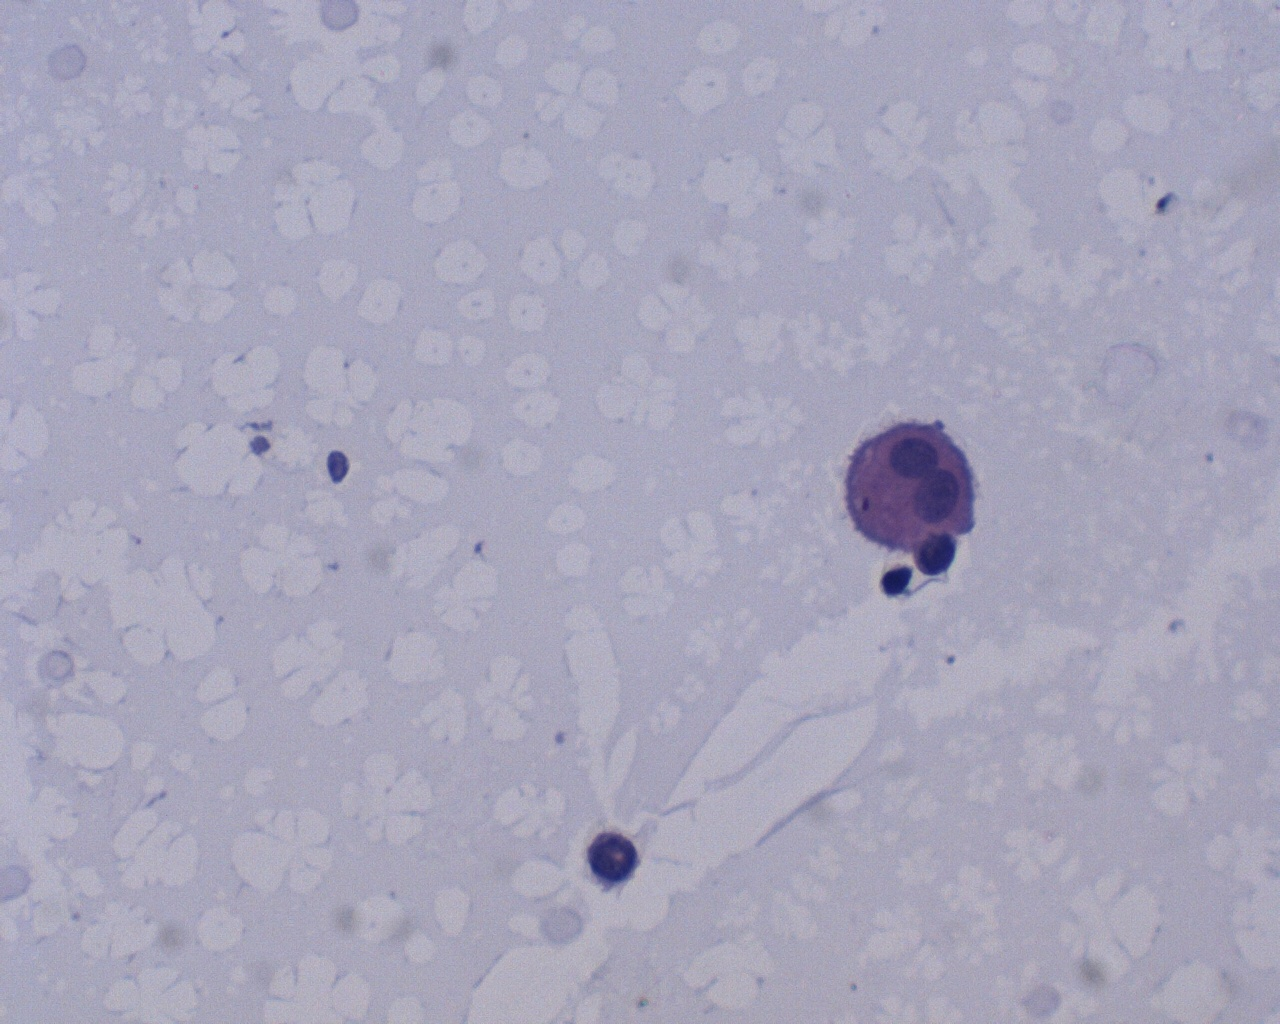meso: (837, 416, 981, 548)
